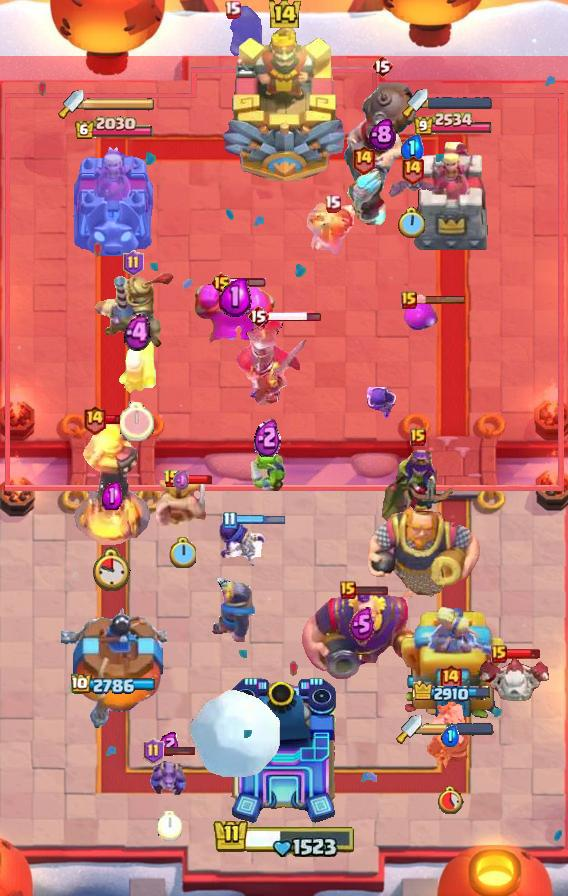bar: (399, 607, 507, 731), (70, 142, 158, 256), (412, 140, 494, 256)
barbarian-barrel: (385, 176, 439, 198)
barbarian-hut: (377, 448, 459, 524)
bomb-tower: (226, 0, 264, 78)
clock: (212, 815, 356, 857)
clone: (192, 281, 278, 367)
electro-dragon: (72, 420, 152, 548)
electro-spirit: (219, 275, 253, 316), (255, 415, 281, 456), (125, 314, 152, 352), (349, 607, 375, 641), (368, 118, 395, 150), (400, 134, 424, 162), (102, 482, 122, 510), (158, 731, 180, 756), (173, 468, 191, 491), (441, 725, 459, 747)
elixir: (93, 547, 131, 591), (120, 402, 154, 441), (398, 208, 426, 240), (169, 536, 196, 567), (436, 785, 464, 814), (158, 811, 183, 841)
elixir-collector: (424, 695, 476, 775)
emote: (267, 310, 322, 323), (234, 514, 285, 526), (415, 294, 467, 305), (230, 277, 267, 289), (353, 584, 389, 596), (505, 648, 541, 660), (160, 745, 195, 756), (179, 474, 213, 485), (104, 414, 123, 426)
firecracker: (210, 578, 255, 643)
giant-skeleton: (366, 501, 482, 601)
goblin: (367, 387, 397, 423)
goblin-ball: (216, 517, 268, 571)
goblin-giant: (156, 477, 208, 527)
king-tower: (220, 21, 348, 181), (228, 676, 340, 826)
king-tower-bar: (84, 97, 156, 111), (422, 722, 494, 736), (428, 97, 492, 109)
lightning: (297, 590, 427, 682)
miner: (403, 302, 439, 332)
mini-pekka: (476, 656, 552, 706)
mortar: (337, 167, 389, 231)
queen-tower: (61, 603, 167, 731)
ram-rider: (92, 270, 174, 350)
royal-delivery: (149, 755, 189, 799)
selected: (413, 112, 493, 137), (74, 115, 154, 140), (413, 681, 493, 705), (70, 674, 157, 696)
skeleton-dragon: (305, 201, 359, 255)
text: (351, 144, 376, 175), (399, 154, 424, 185), (437, 662, 462, 693), (82, 405, 106, 435), (210, 271, 233, 295), (123, 250, 144, 276), (144, 738, 165, 764), (371, 54, 393, 78), (247, 304, 269, 328), (163, 469, 181, 489), (323, 195, 341, 214), (224, 1, 241, 20), (401, 291, 417, 309), (410, 428, 426, 446), (340, 581, 356, 599), (491, 645, 507, 663), (223, 511, 238, 529)
tombstone: (116, 337, 158, 395)
wall-breaker: (188, 688, 282, 780)
wall-breaker-evolution: (234, 317, 310, 405)
wizard: (342, 79, 422, 199)
zap: (247, 444, 287, 494)
